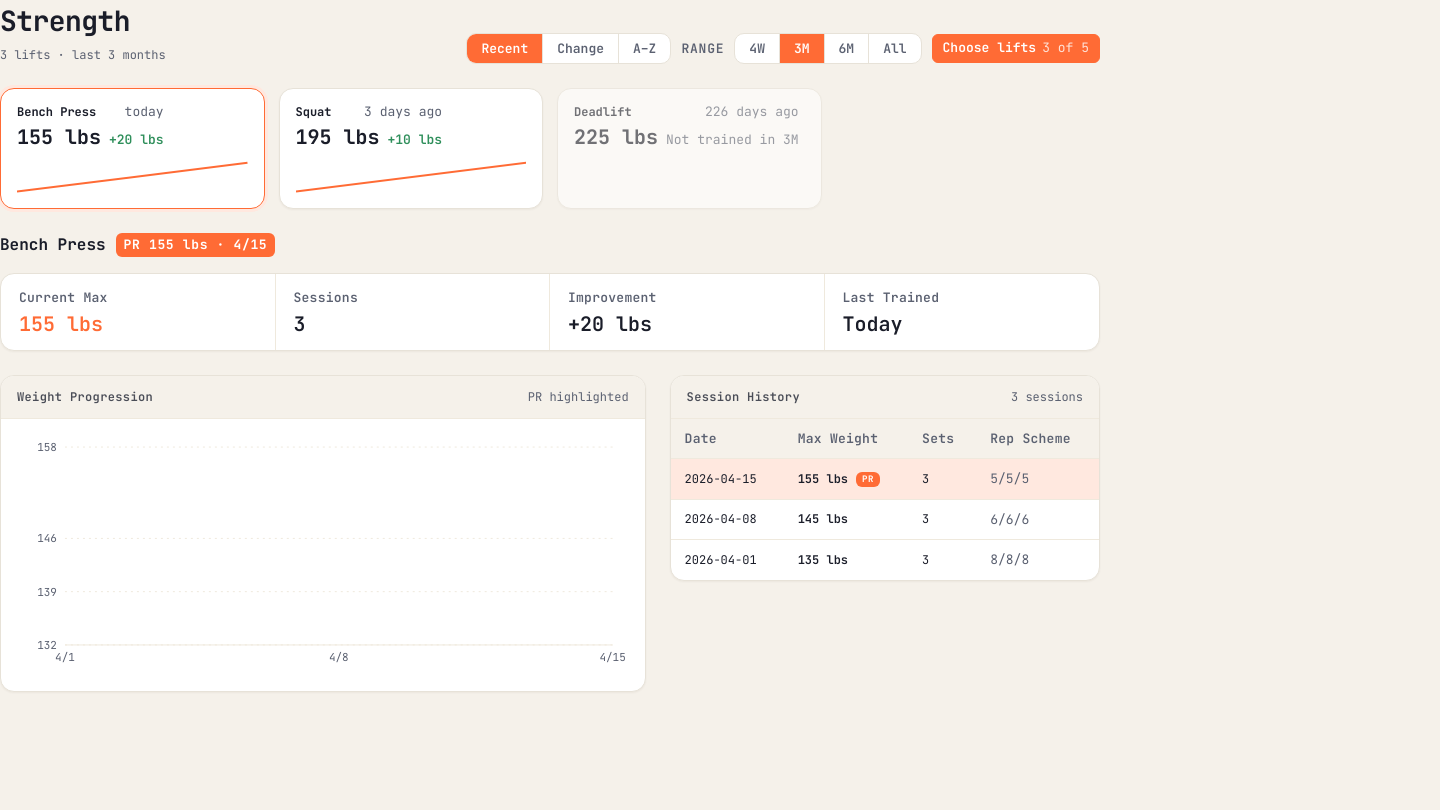
Test: Strength page — Choose lifts dialog › lists every logged lift with chosen ones checked
Expected: the element with test id "lift-grid" is shown, [0,88,822,209]
Click the button "Choose lifts 3 of 5" at (1016, 48), box [932,34,1100,63]
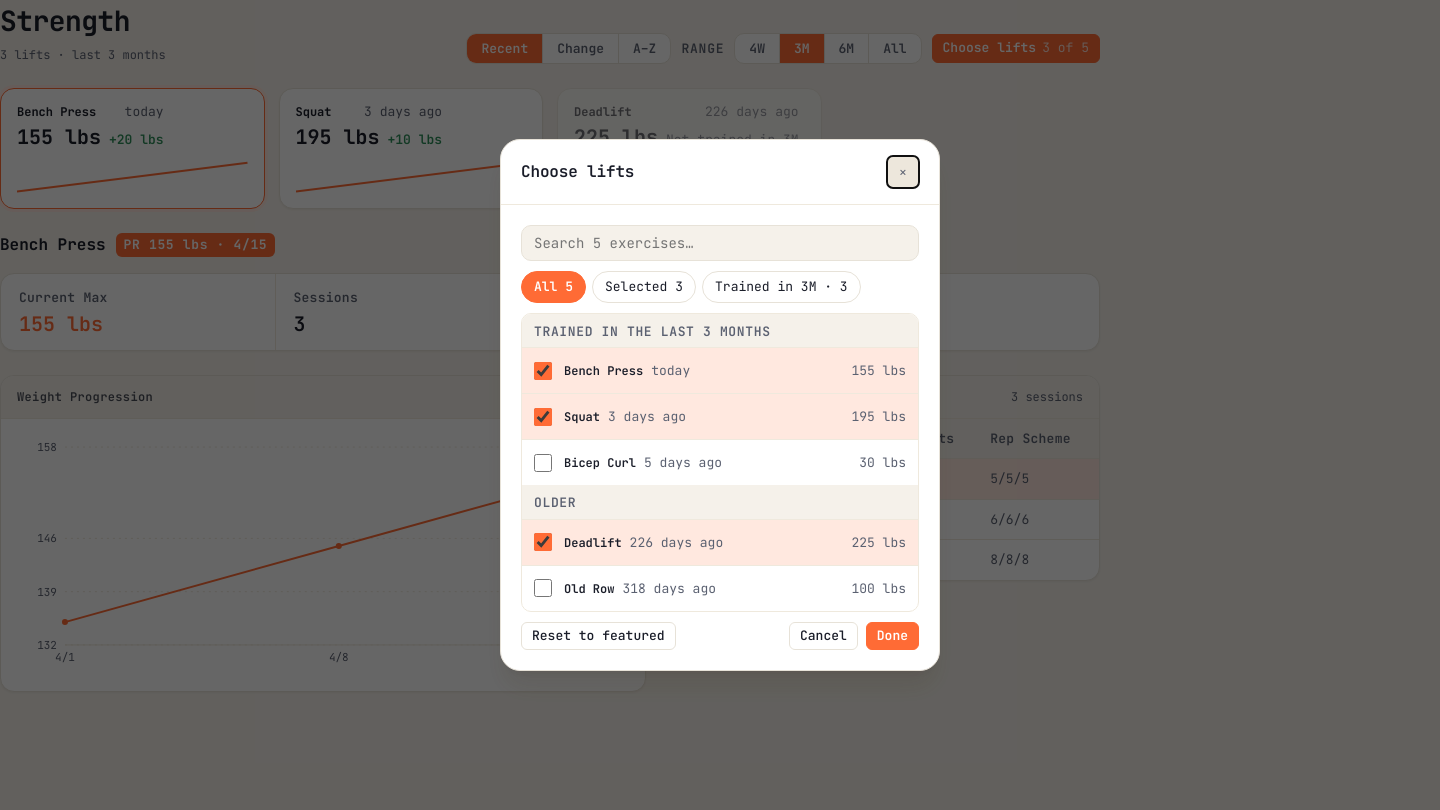
Now the number of checkboxes is 5, box [534,362,552,380]; [534,408,552,426]; [534,454,552,472]; [534,533,552,551]; [534,579,552,597]
Now the checkbox labelled "Bench Press" is checked, box [534,362,552,380]
Now the checkbox labelled "Bicep Curl5 days ago 30 lbs" is not checked, box [534,454,552,472]
